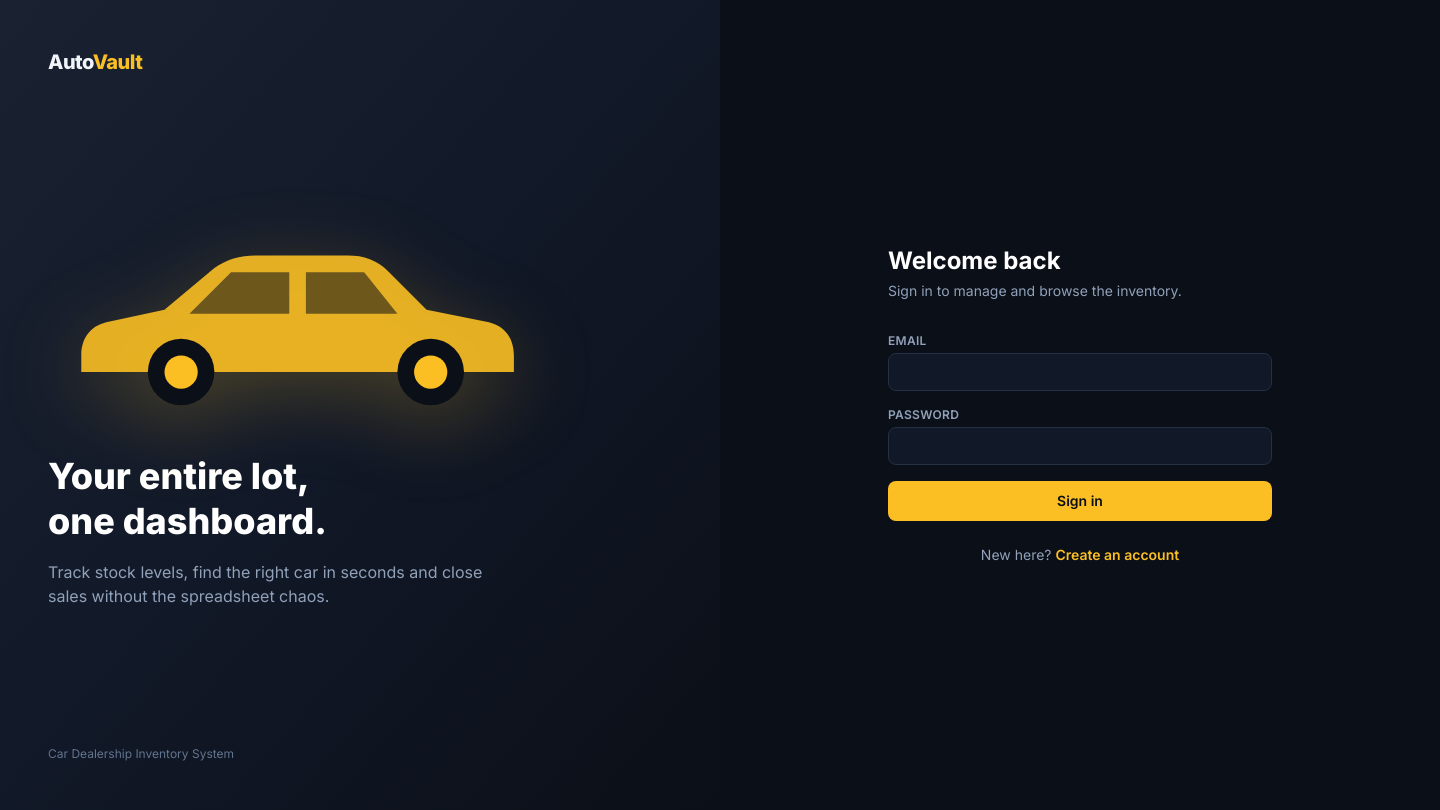
Test: LoginPage › shows the error returned by the server
Type "jane@example.com" into the field labelled "Email" at x=1080, y=372, box [888,353,1272,391]
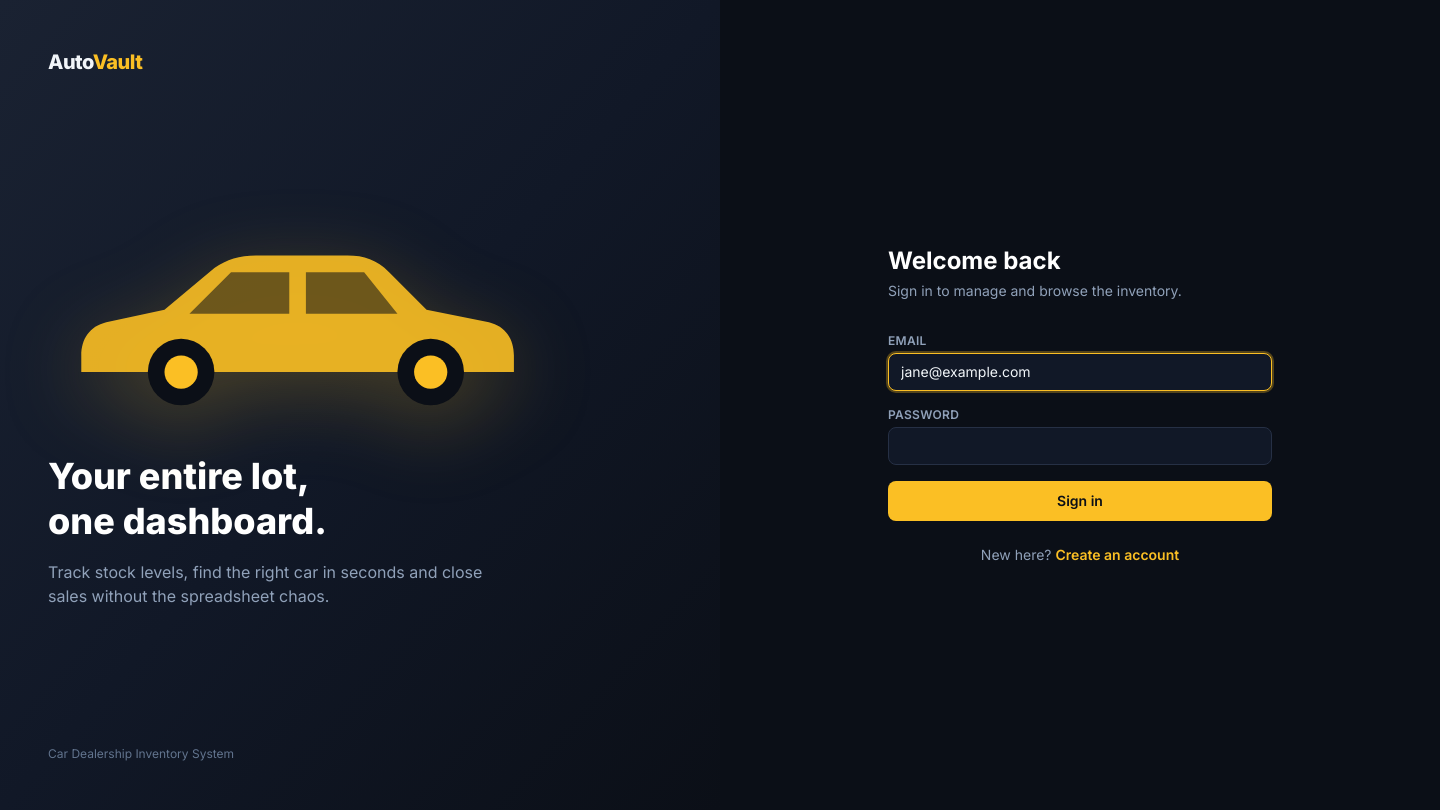
Type "nope" into the password field labelled "Password" at x=1080, y=446, box [888,427,1272,465]
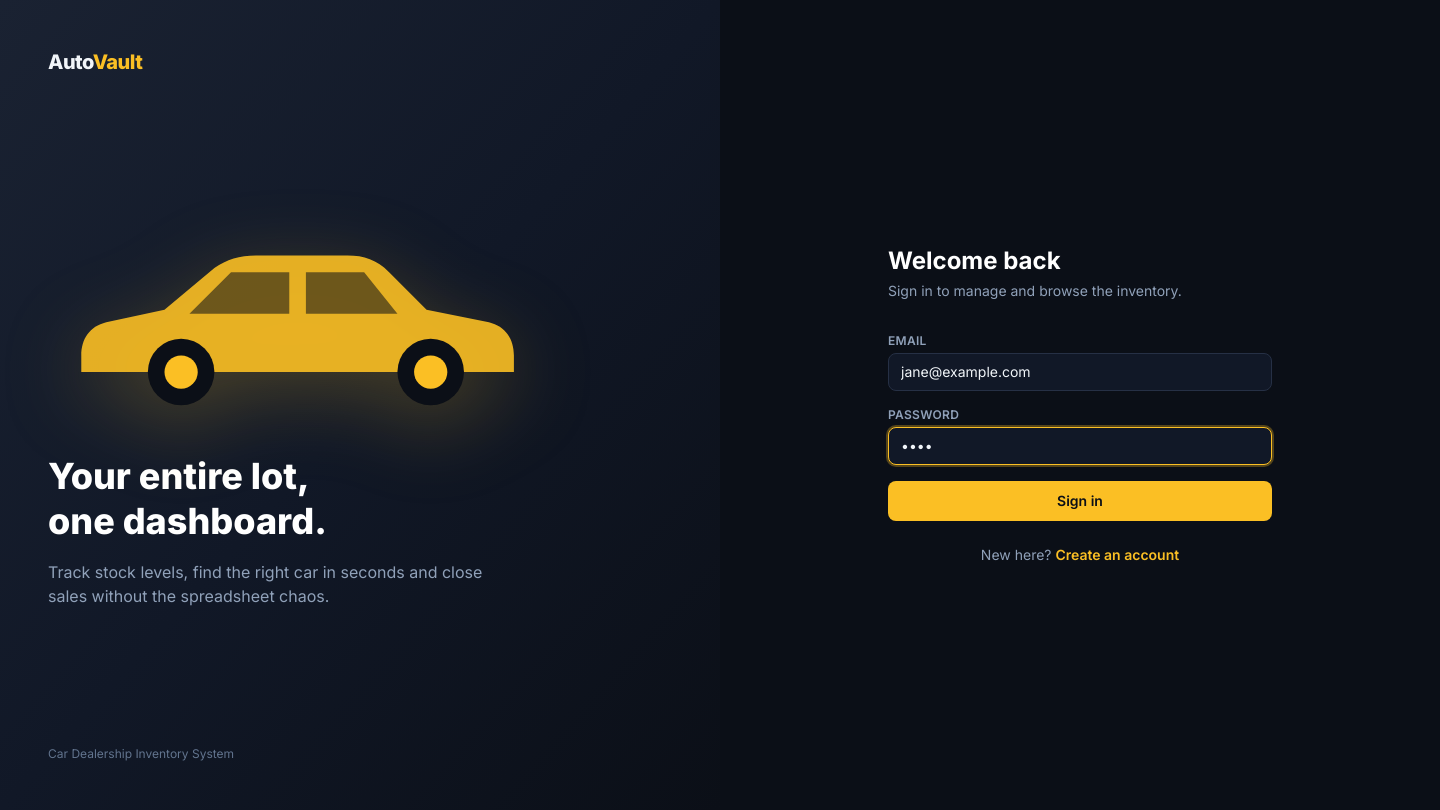
Click the button "Sign in" at x=1080, y=501, box [888,481,1272,521]
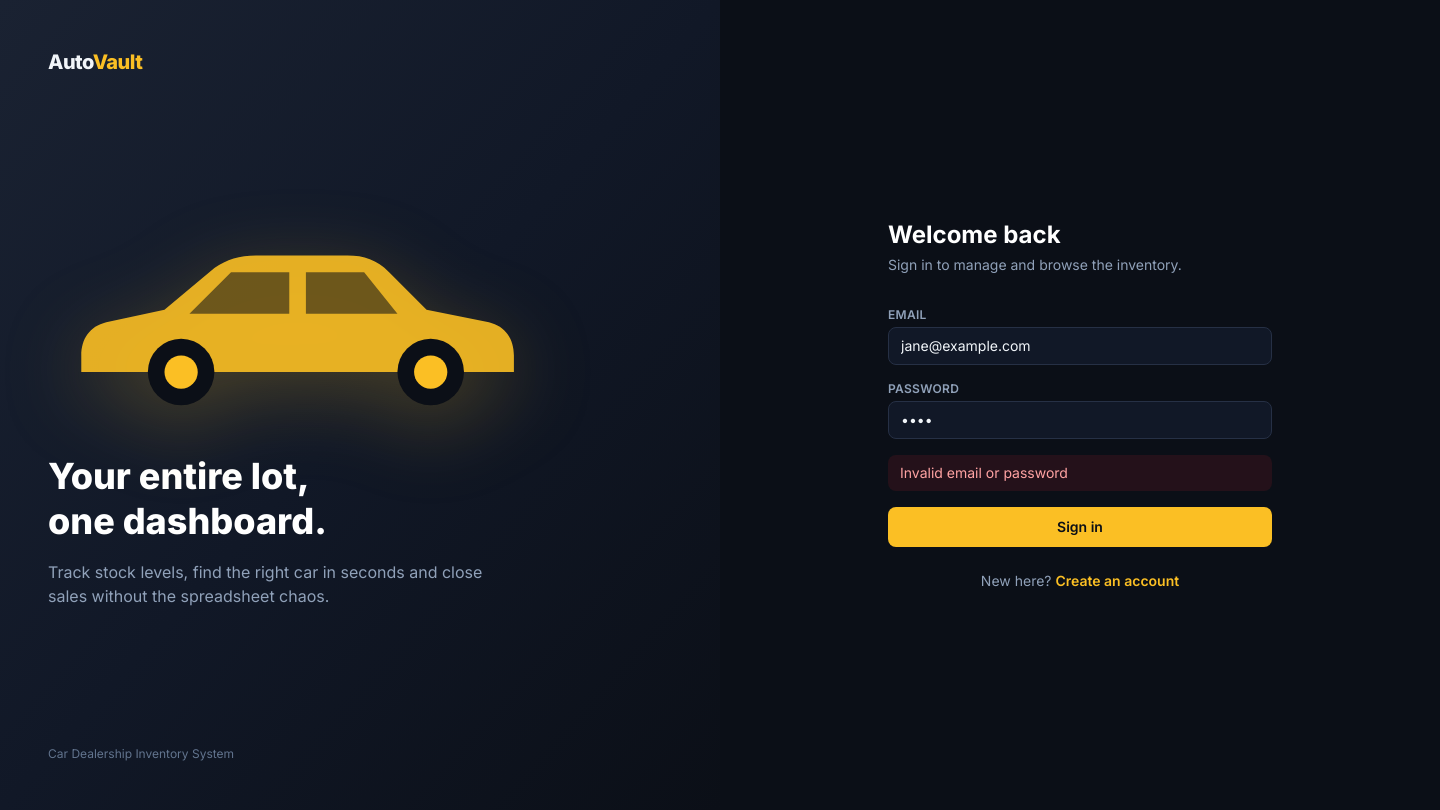
Expected: the message reads "Invalid email or password", [900,464,1068,481]
